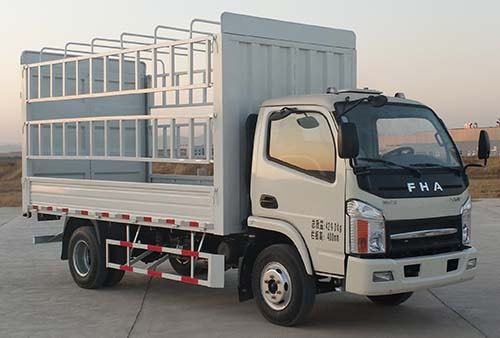smalltruck: (18, 26, 483, 329)
